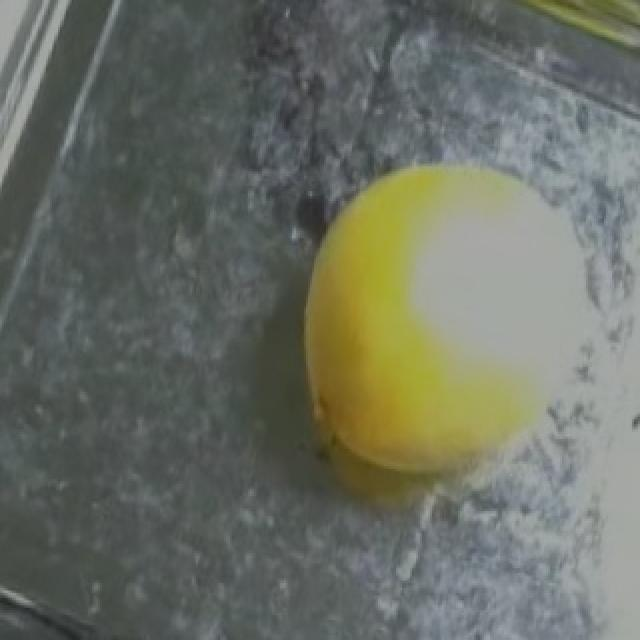fruit: (452, 0, 640, 74)
